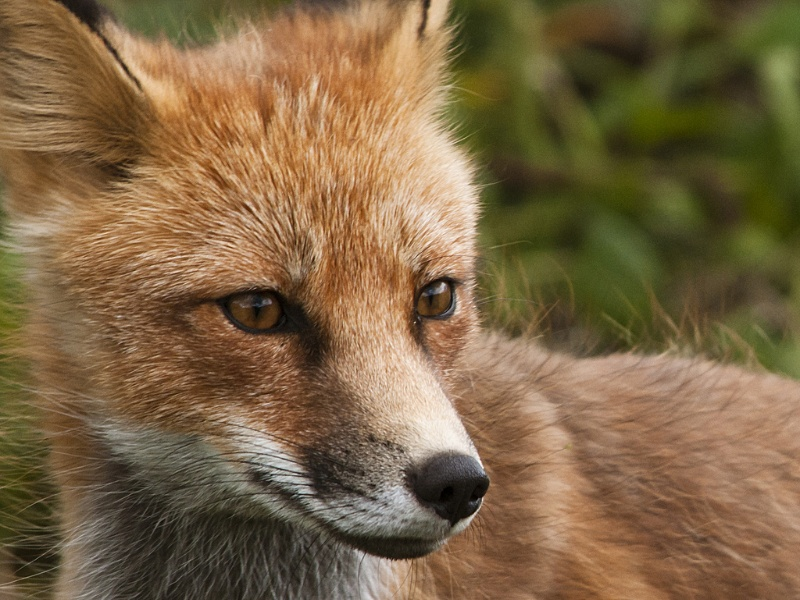fox: (7, 5, 798, 600)
